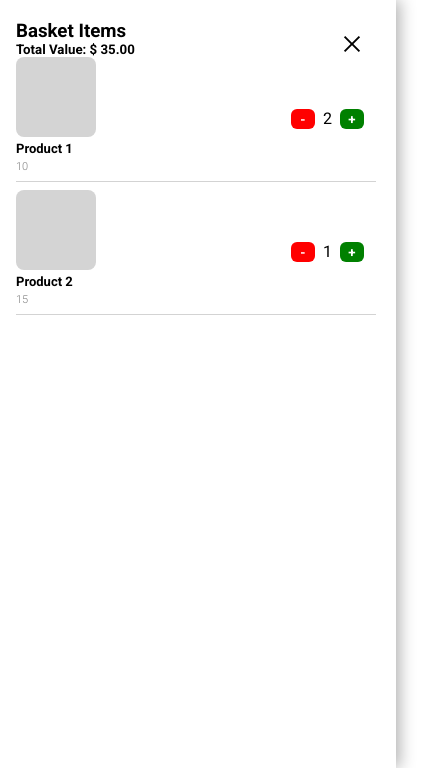
Test: increases and decreases quantity of a product
The image size is (425, 768).
Click the 1st button "+" at (352, 119), box [340, 109, 364, 129]
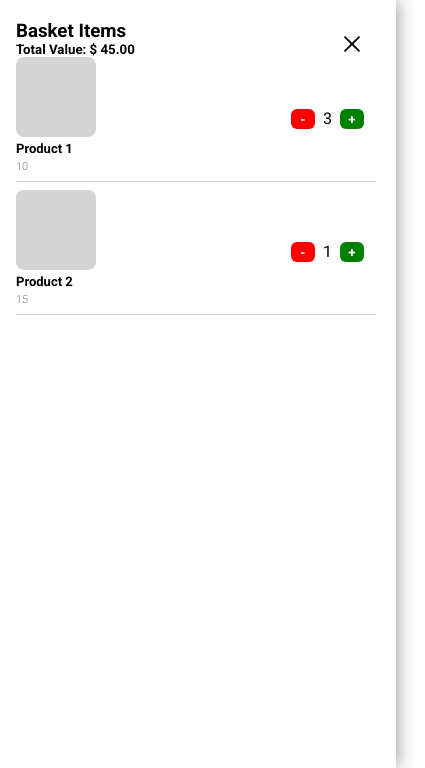
Check: the text "3" is shown, box [323, 109, 332, 129]
Click the 1st button "-" at (303, 119), box [291, 109, 315, 129]
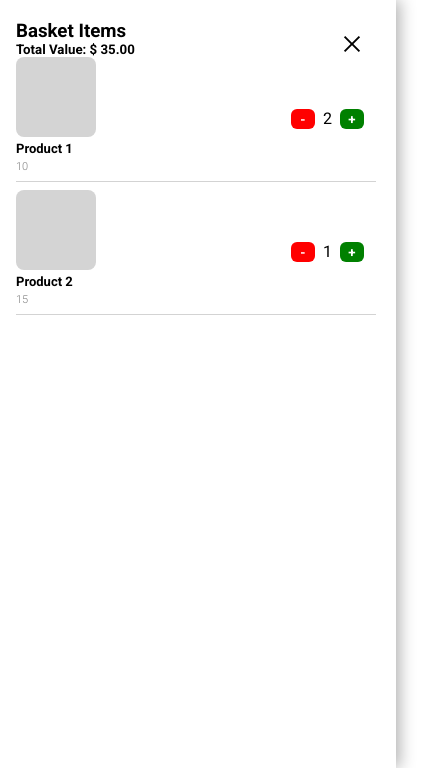
Check: the text "2" is shown, box [323, 109, 332, 129]
